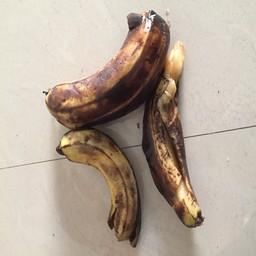Bad_banana: (40, 2, 174, 128), (143, 25, 209, 220), (55, 128, 142, 244)
